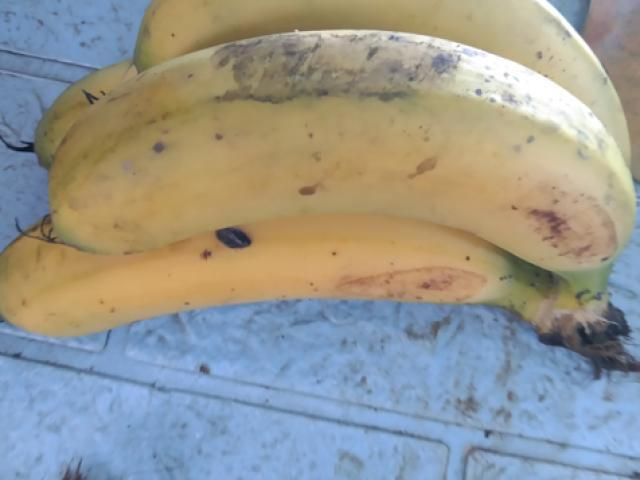ripe: (30, 14, 611, 268)
